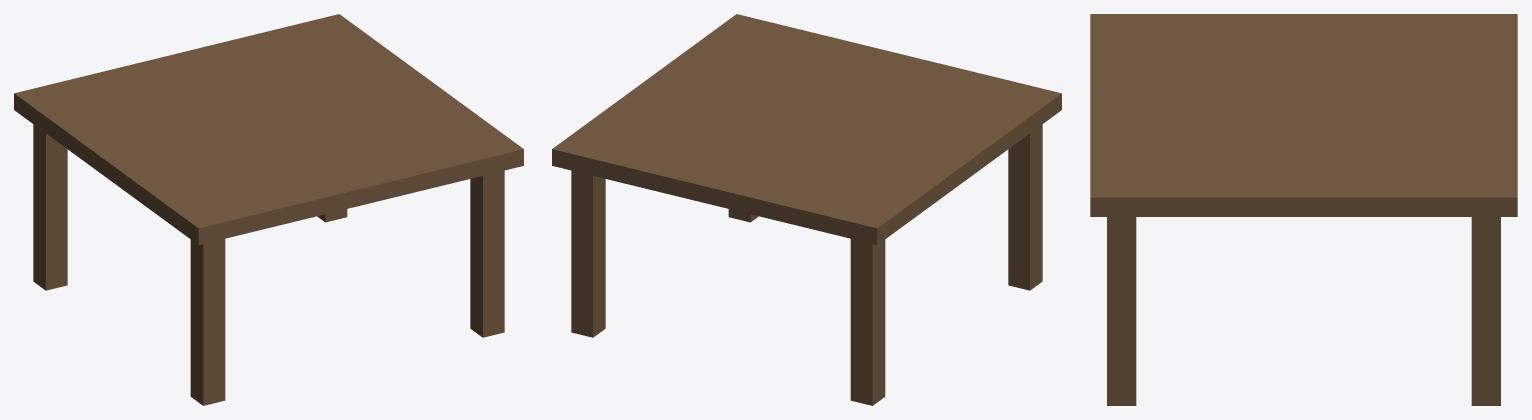
The model's file is Table.fbx.
3 renders of one model, left to right at view 1: azimuth 30°, elevation 25°; view 2: azimuth 150°, elevation 25°; view 3: azimuth 270°, elevation 25°, orthographic. The views are drawn at different scales.
Parts seen in each view (by area): view 1: Cube.007; view 2: Cube.007; view 3: Cube.007.
Boxes of the visible parts, x1=… form: Cube.007: x1=14, y1=14, x2=523, y2=405; Cube.007: x1=552, y1=14, x2=1061, y2=405; Cube.007: x1=1090, y1=14, x2=1517, y2=405.
Size of the model in its own units: 711 by 388 by 698.
